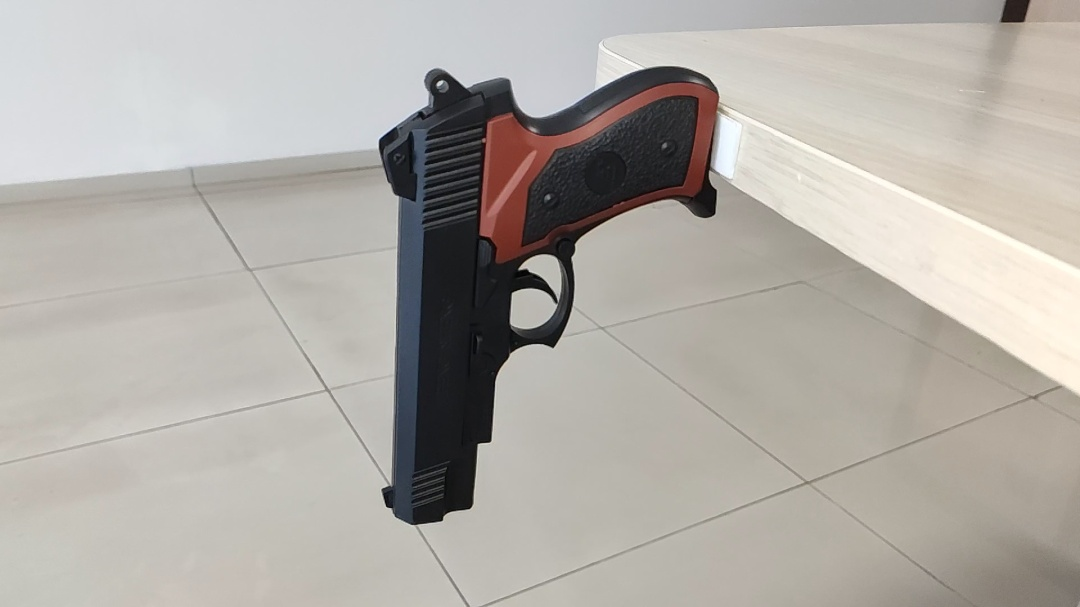gun: (403, 291, 528, 376)
